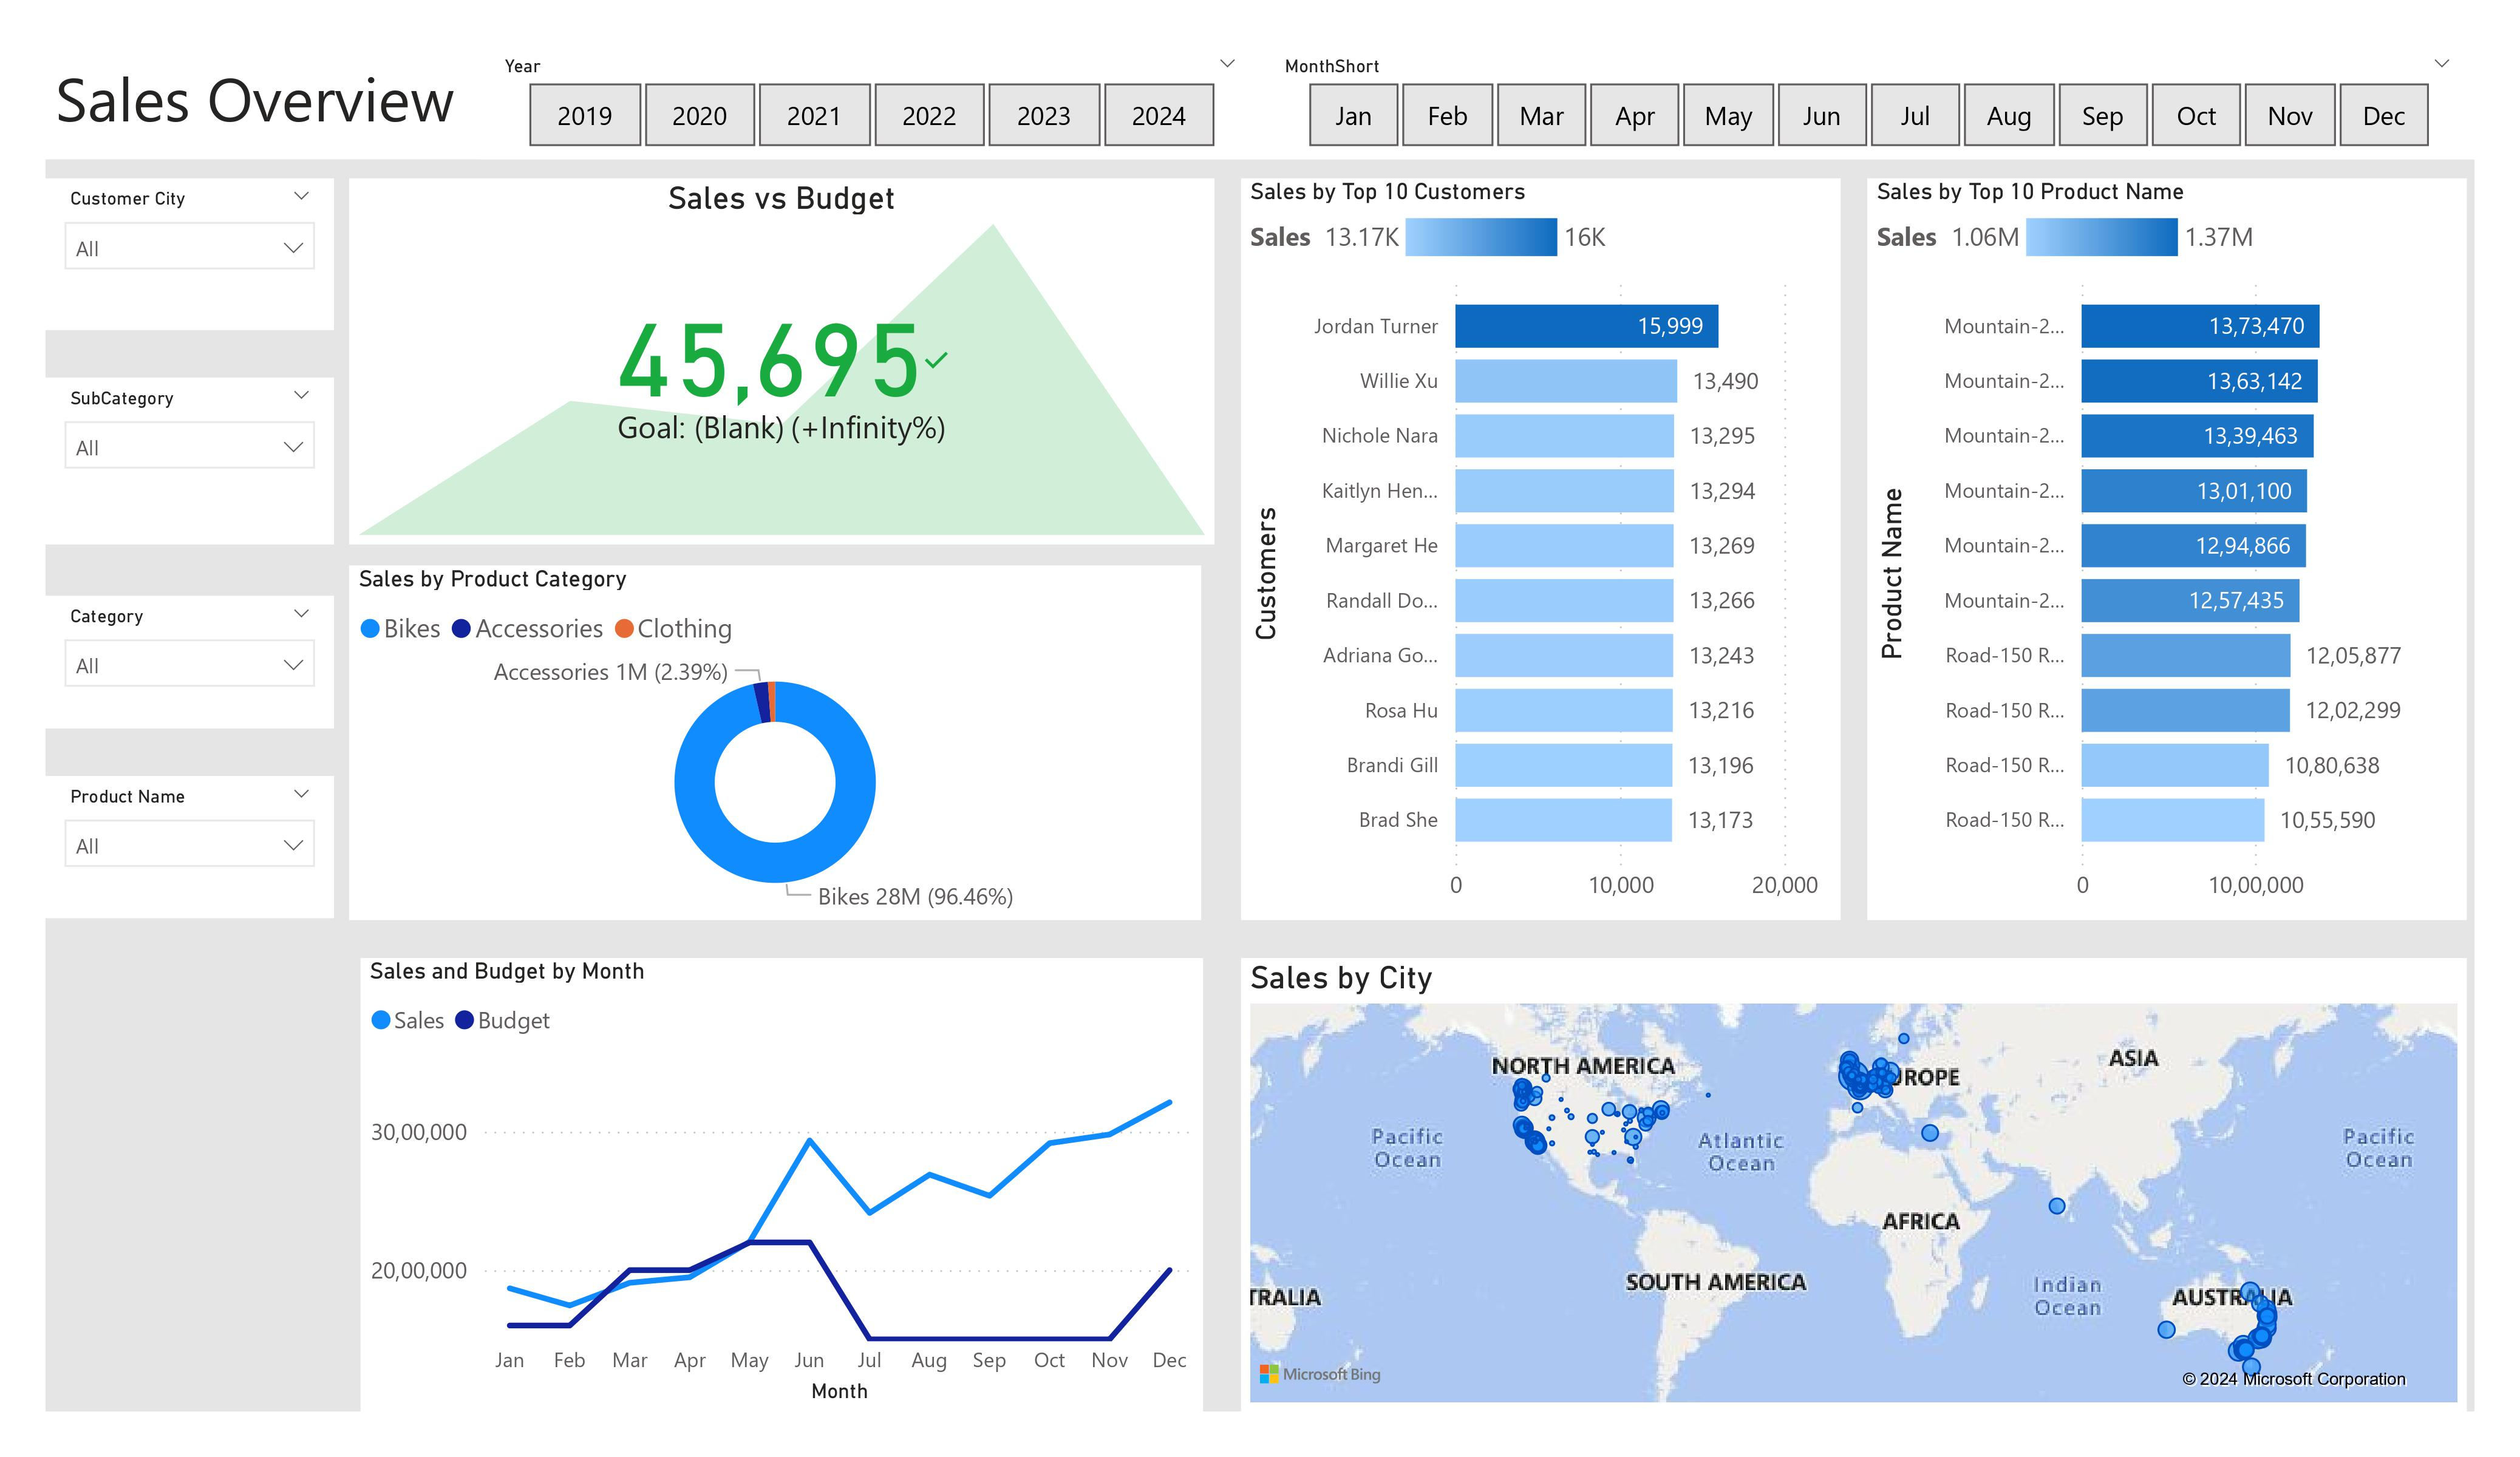

The page's visual inventory and layout, read from the dashboard file:
{"tool":"powerbi","page":{"name":"Sales Overview","canvas":[1280,720],"ordinal":0},"visuals":[{"type":"kpi","title":"Sales vs Budget","fields":{"Indicator":["Fact_InternetSales.Sales"],"Goal":["Fact_Budget.Sales/ Budget_Amt"],"TrendLine":["Dim_Date.Year"]},"box":[160,70,455.7,192.9],"z":0},{"type":"textbox","box":[0,0,1279.8,59.6],"z":1000},{"type":"slicer","fields":{"Values":["Dim_Customer.CustomerCity"]},"box":[0,70,151.7,80],"z":2000},{"type":"slicer","fields":{"Values":["Dim_Products.Product Subcategory"]},"box":[0,175,151.7,88.3],"z":3000},{"type":"slicer","fields":{"Values":["Dim_Products.Product Code"]},"box":[0,290,151.7,70],"z":4000},{"type":"slicer","fields":{"Values":["Dim_Products.Product Name"]},"box":[0,385,151.7,75],"z":5000},{"type":"slicer","fields":{"Values":["Dim_Date.Year"]},"box":[228.8,0,411.5,59.6],"z":6000},{"type":"slicer","fields":{"Values":["Dim_Date.MonthShort"]},"box":[640.4,0,639.4,59.6],"z":7000},{"type":"donutChart","fields":{"Category":["Dim_Products.Product Category"],"Y":["Key Measures.Sales"]},"box":[160,274.3,448.6,187.1],"z":8000},{"type":"lineChart","title":"Sales and Budget by Month","fields":{"Y":["Key Measures.Sales","Key Measures.Budget_Amt"],"Category":["Dim_Date.MonthShort"]},"box":[165.7,481.4,444.3,238.6],"z":9000},{"type":"barChart","title":"Sales by Top 10 Customers","fields":{"Y":["Key Measures.Sales"],"Category":["Dim_Customer.FullName"]},"box":[630,70,315.7,391.4],"z":10000},{"type":"barChart","title":"Sales by Top 10 Product Name","fields":{"Y":["Key Measures.Sales"],"Category":["Dim_Products.Product Name"]},"box":[960,70,315.7,391.4],"z":11000},{"type":"map","fields":{"Category":["Dim_Customer.CustomerCity"],"Size":["Key Measures.Sales"]},"box":[630,481.4,645.7,238.6],"z":12000}]}

Visuals, with their boxes on the page's 1280x720 design canvas (x1, y1, x2, y2). These are canvas units, not pixel positions in the 2520x1457 screenshot, which may show the page scaled, cropped or inside an application window:
"Sales vs Budget" kpi: (left=160, top=70, right=616, bottom=263)
textbox: (left=0, top=0, right=1280, bottom=60)
slicer - Dim_Customer.CustomerCity: (left=0, top=70, right=152, bottom=150)
slicer - Dim_Products.Product Subcategory: (left=0, top=175, right=152, bottom=263)
slicer - Dim_Products.Product Code: (left=0, top=290, right=152, bottom=360)
slicer - Dim_Products.Product Name: (left=0, top=385, right=152, bottom=460)
slicer - Dim_Date.Year: (left=229, top=0, right=640, bottom=60)
slicer - Dim_Date.MonthShort: (left=640, top=0, right=1280, bottom=60)
donutChart - Dim_Products.Product Category x Key Measures.Sales: (left=160, top=274, right=609, bottom=461)
"Sales and Budget by Month" lineChart: (left=166, top=481, right=610, bottom=720)
"Sales by Top 10 Customers" barChart: (left=630, top=70, right=946, bottom=461)
"Sales by Top 10 Product Name" barChart: (left=960, top=70, right=1276, bottom=461)
map - Dim_Customer.CustomerCity x Key Measures.Sales: (left=630, top=481, right=1276, bottom=720)
